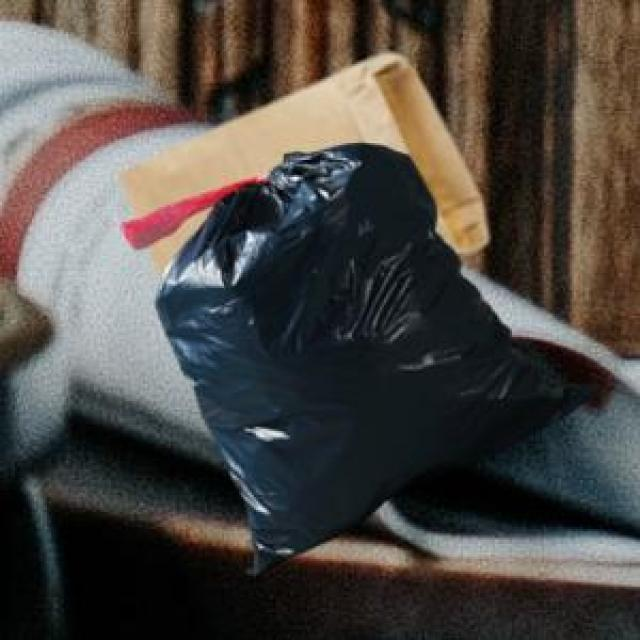miscellaneous trash: (117, 139, 593, 570)
paper: (115, 49, 484, 273)
